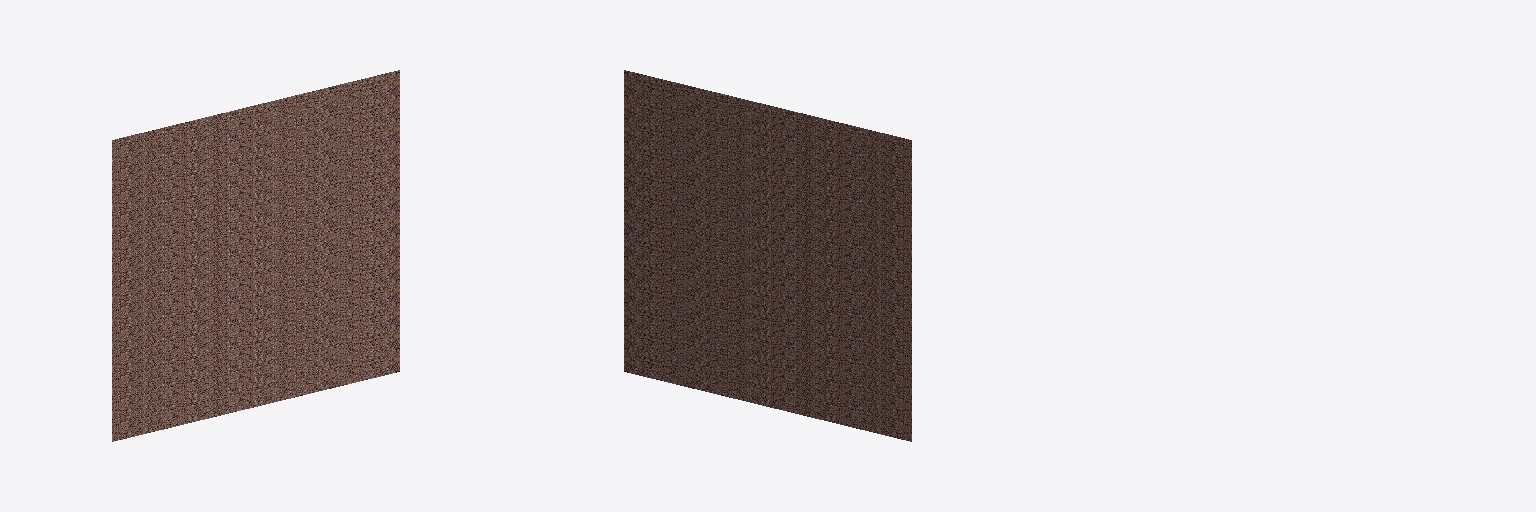
3 renders of one model, left to right at view 1: azimuth 30°, elevation 25°; view 2: azimuth 150°, elevation 25°; view 3: azimuth 270°, elevation 25°, orthographic.
Parts seen in each view (by area): view 1: Bodenbelag_Schotter_Indisch; view 2: Bodenbelag_Schotter_Indisch; view 3: none.
Boxes of the visible parts, <box> form: Bodenbelag_Schotter_Indisch: <box>112,70,399,441</box>; Bodenbelag_Schotter_Indisch: <box>624,70,911,441</box>.
Bounding box in the file's own units: 24 × 24 × 0.
Materials: 1 (1 with a texture image).